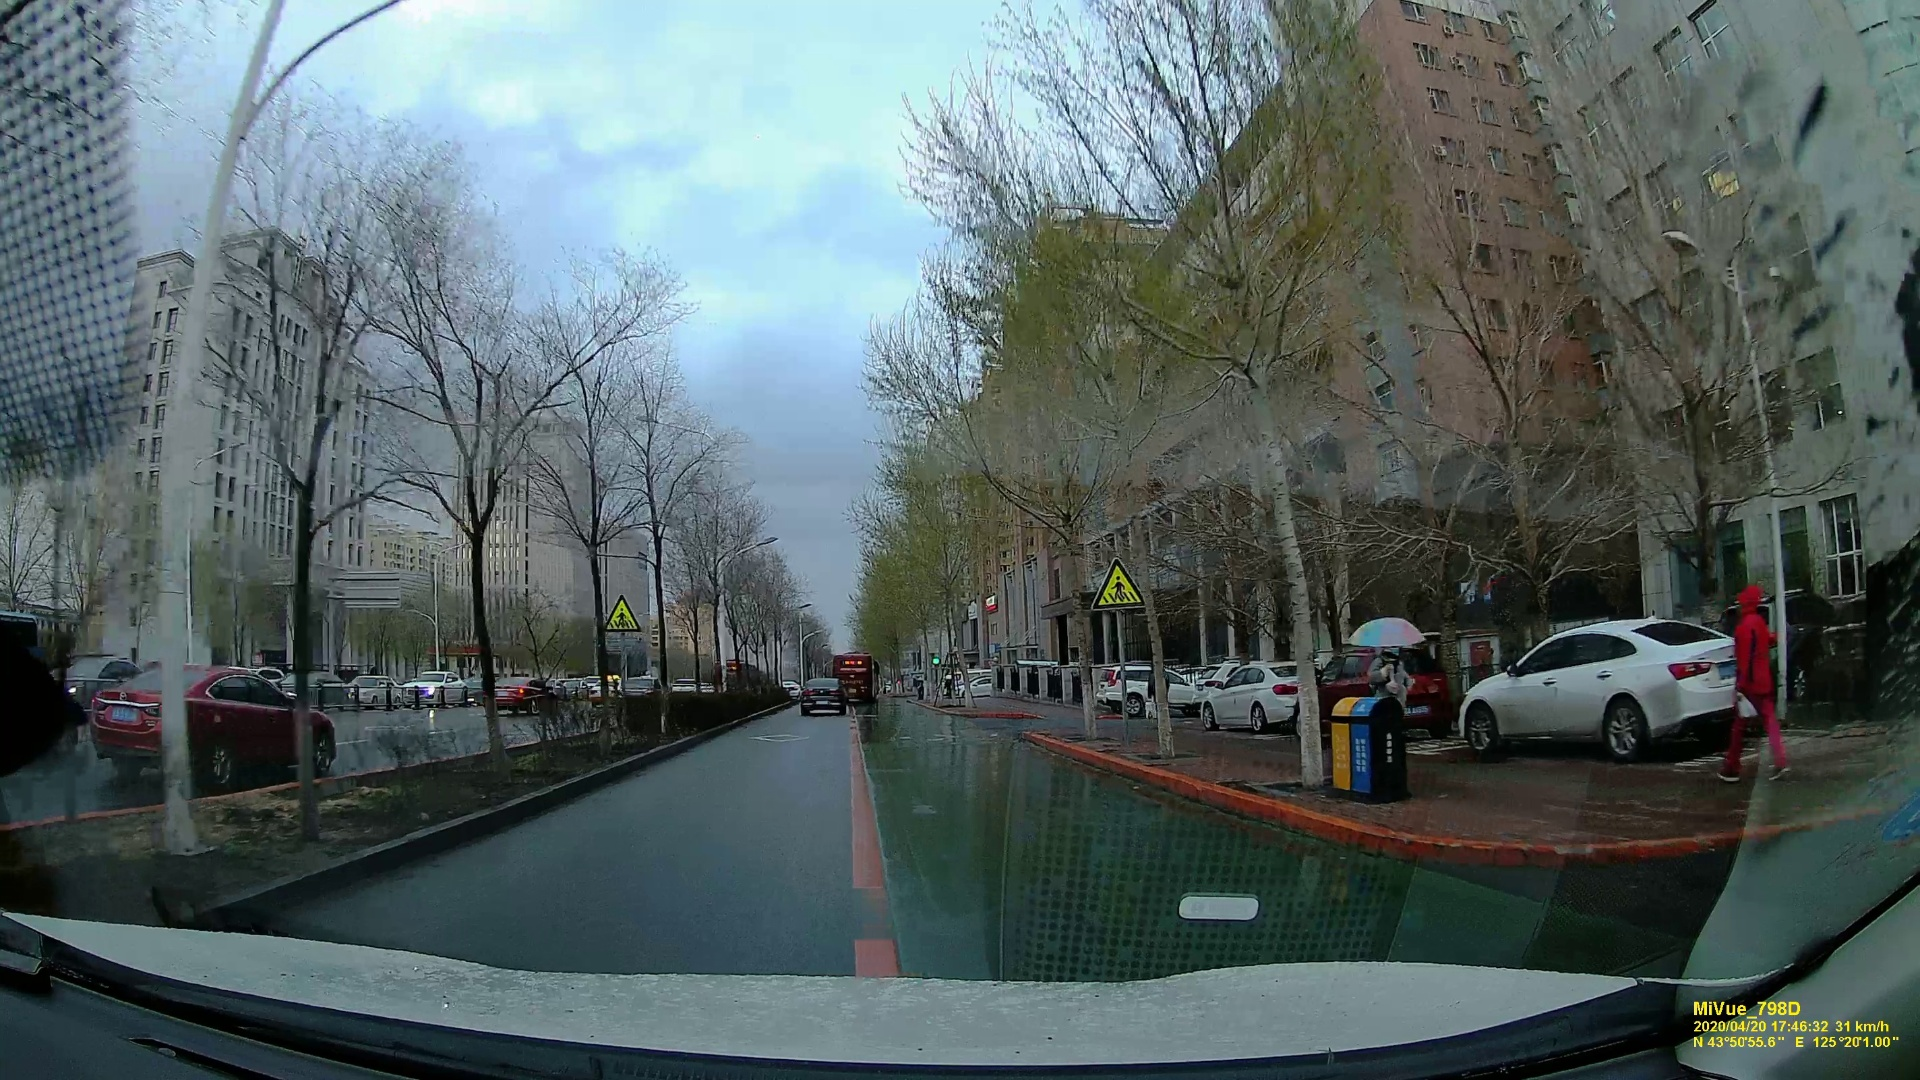bus: (832, 654, 876, 698)
person: (1729, 584, 1789, 786), (1365, 632, 1417, 770)
traffic_sign: (1093, 559, 1144, 611), (601, 595, 639, 635)
vehicle: (1461, 611, 1751, 767), (88, 656, 336, 780), (1192, 665, 1308, 731), (800, 681, 844, 716)
